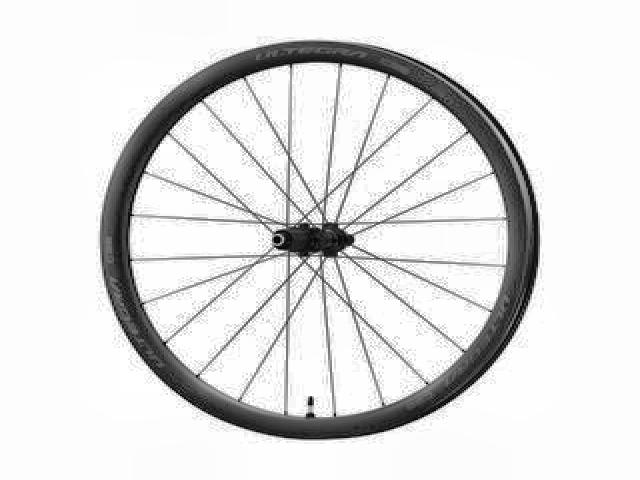wheel: (88, 33, 550, 445)
